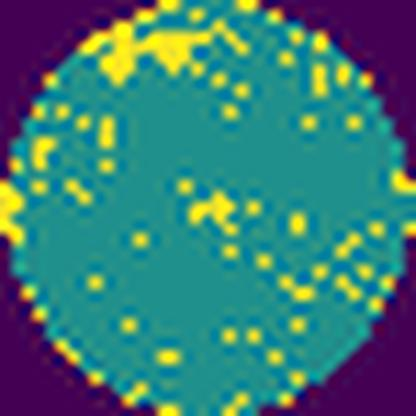Edge-Loc: (74, 0, 252, 85), (0, 174, 26, 251)
